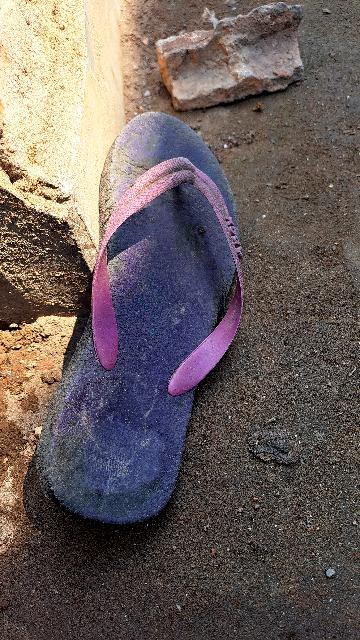sandal: (26, 113, 263, 542)
